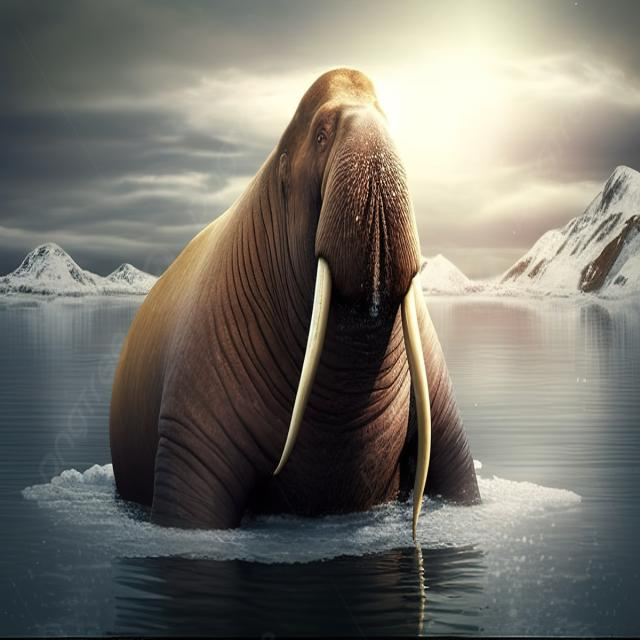walrus: (80, 44, 511, 566)
